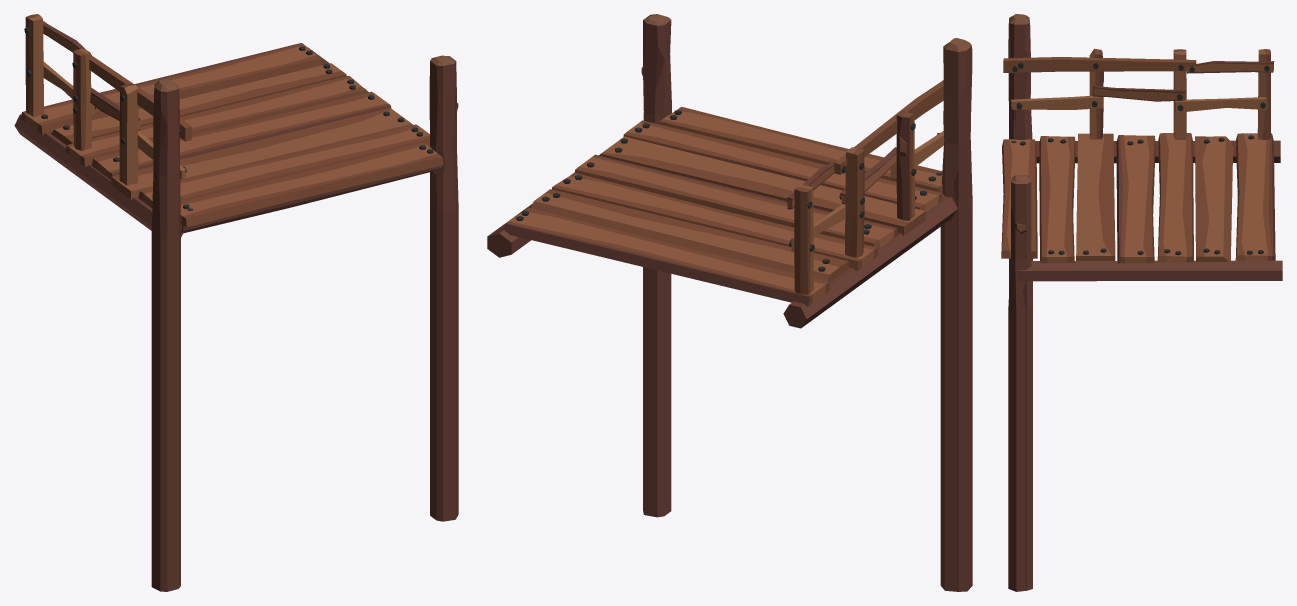
File: landing_stage_beginning.fbx
3 views of the same model, side by side, from view 1: azimuth 30°, elevation 25°; view 2: azimuth 150°, elevation 25°; view 3: azimuth 270°, elevation 25° (orthographic). The views are drawn at different scales.
Parts seen in each view (by area): view 1: landing_stage_beginning; view 2: landing_stage_beginning; view 3: landing_stage_beginning.
Part boxes in pixels (box(x1,y1,x2,y2)): landing_stage_beginning: box(14, 14, 458, 591); landing_stage_beginning: box(487, 14, 972, 591); landing_stage_beginning: box(1001, 14, 1282, 591).
Bounding box in the file's own units: 168 × 268 × 151.
